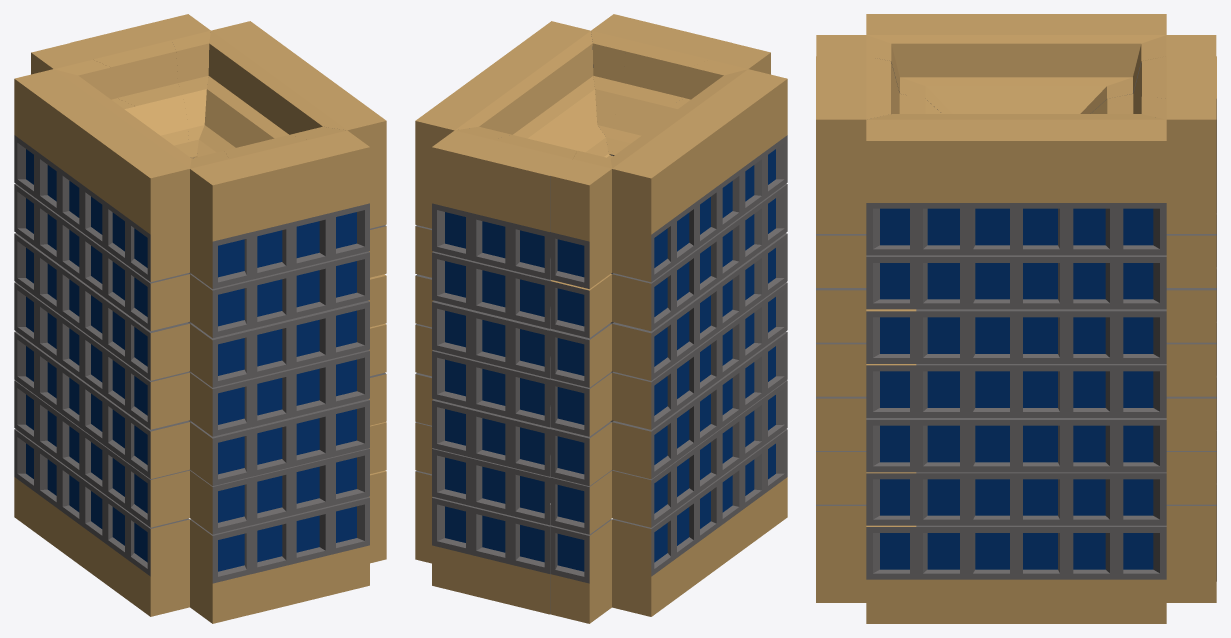
Rendered from skyscrapper.fbx.
3 views of the same model, side by side, from view 1: azimuth 30°, elevation 25°; view 2: azimuth 150°, elevation 25°; view 3: azimuth 270°, elevation 25° (orthographic). The views are drawn at different scales.
Visible parts, largest first — view 1: Plane; view 2: Plane; view 3: Plane.
Part boxes in pixels (x1,y1,x2,y2): Plane: [14, 14, 386, 623]; Plane: [415, 14, 787, 623]; Plane: [816, 14, 1216, 623].
Bounding box in the file's own units: 472 × 838 × 630.
